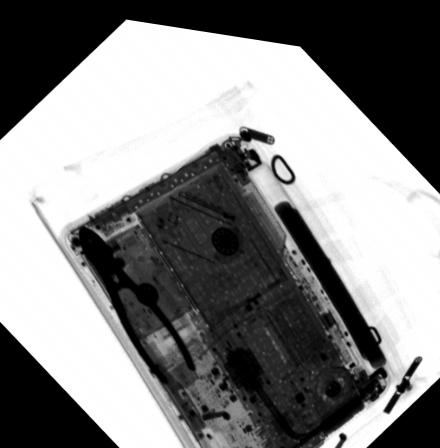Pliers: (77, 221, 195, 379)
